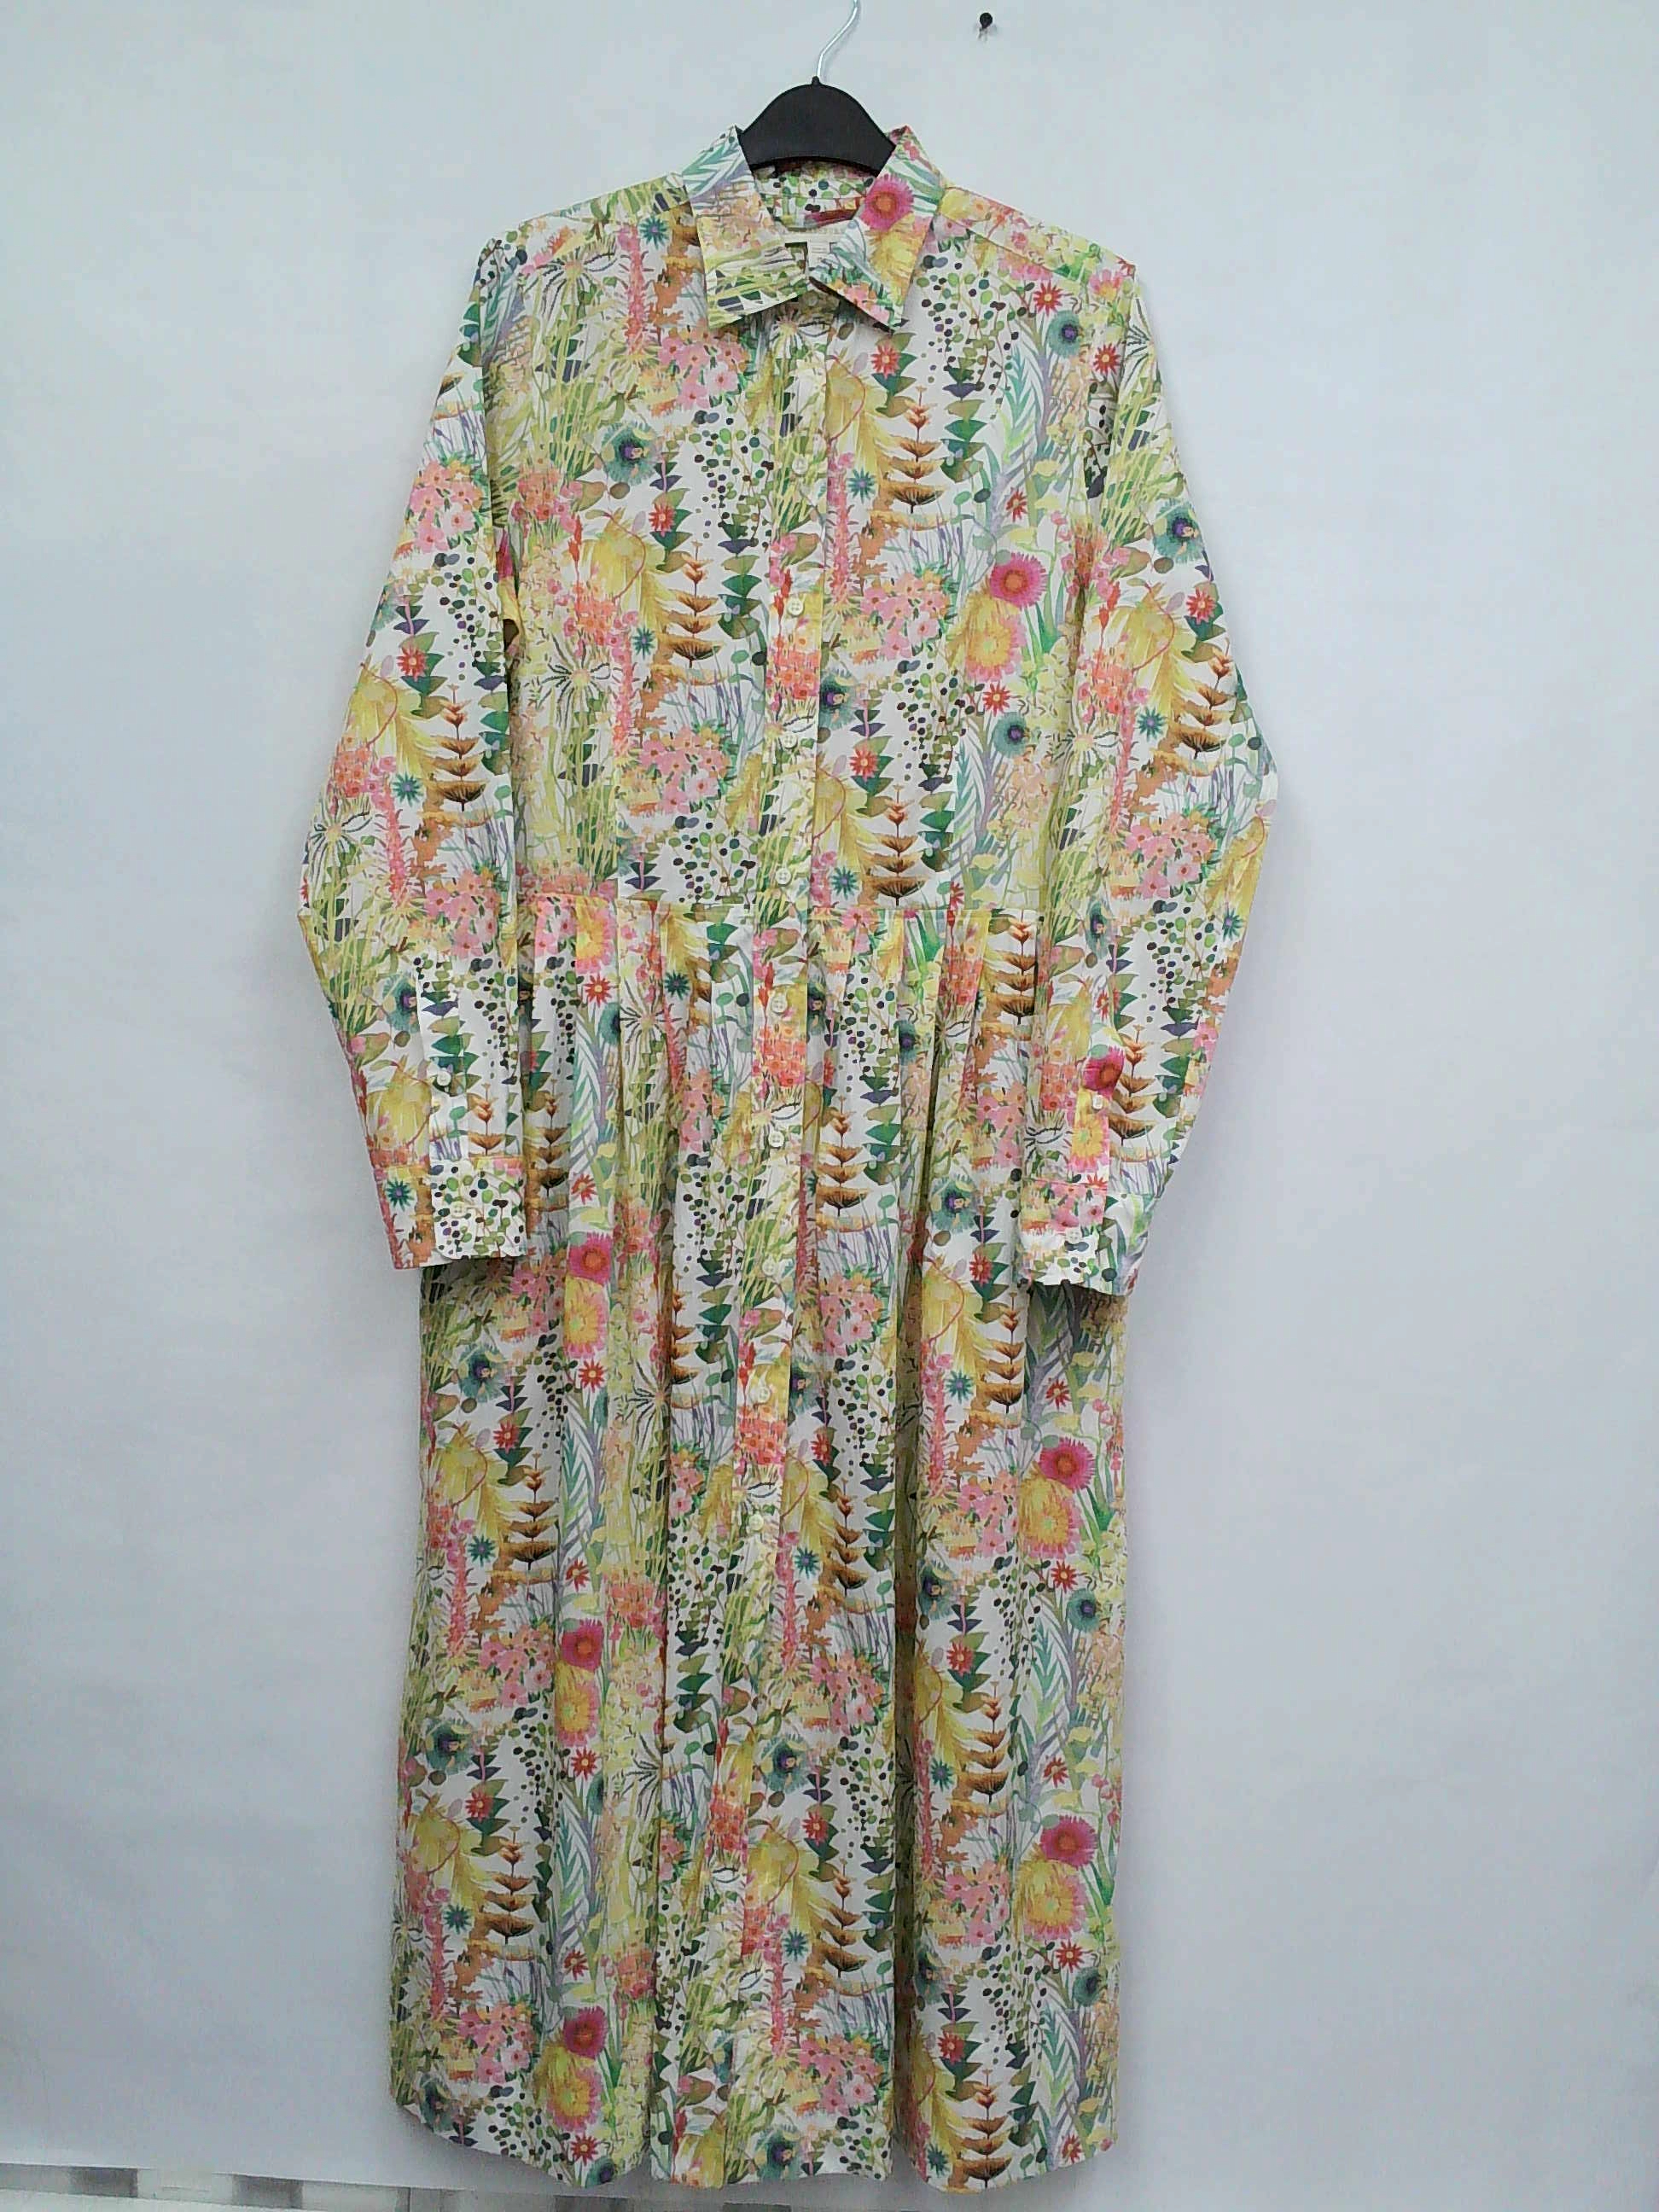structural: (676, 1991, 763, 2198)
